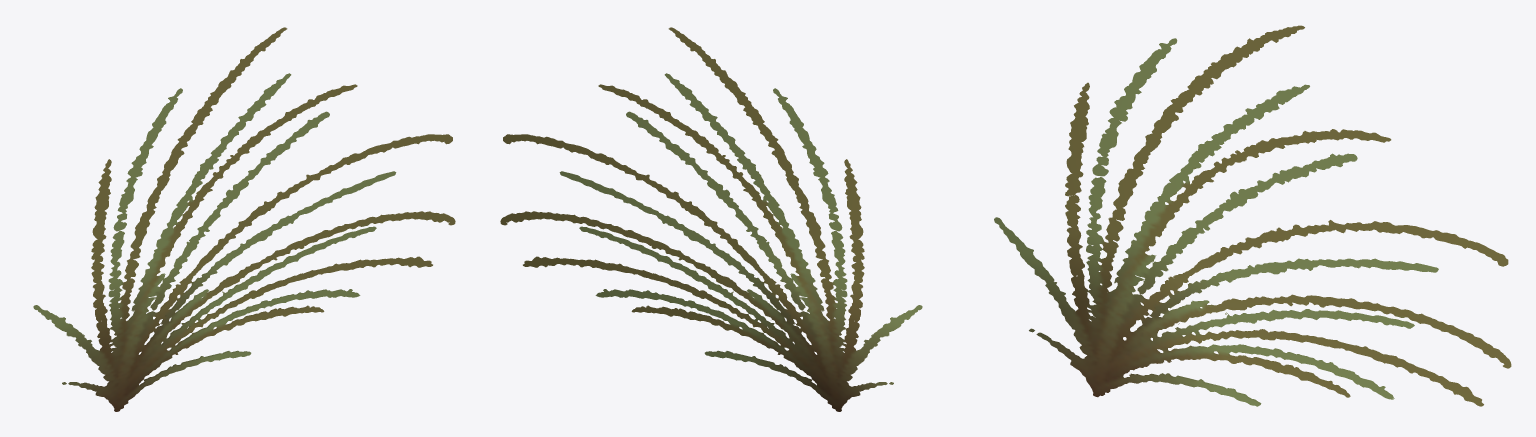
The model's file is HP3_weed041.fbx.
3 renders of one model, left to right at view 1: azimuth 30°, elevation 25°; view 2: azimuth 150°, elevation 25°; view 3: azimuth 330°, elevation 25°, orthographic. The views are drawn at different scales.
Visible parts, largest first — view 1: HP3_weed041; view 2: HP3_weed041; view 3: HP3_weed041.
Boxes of the visible parts, box(x1,y1,x2,y2) form: HP3_weed041: box(33, 27, 455, 411); HP3_weed041: box(500, 27, 922, 411); HP3_weed041: box(994, 25, 1511, 406).
Bounding box in the file's own units: 10.12 × 7.88 × 0.04.
